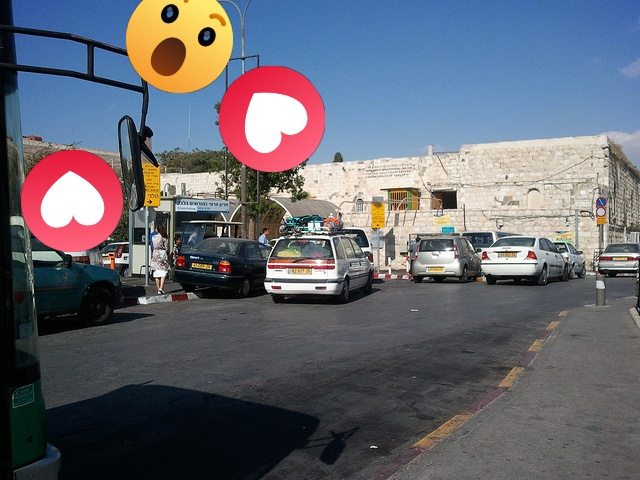love: (219, 66, 325, 172), (21, 150, 123, 252)
wow: (126, 0, 233, 93)
